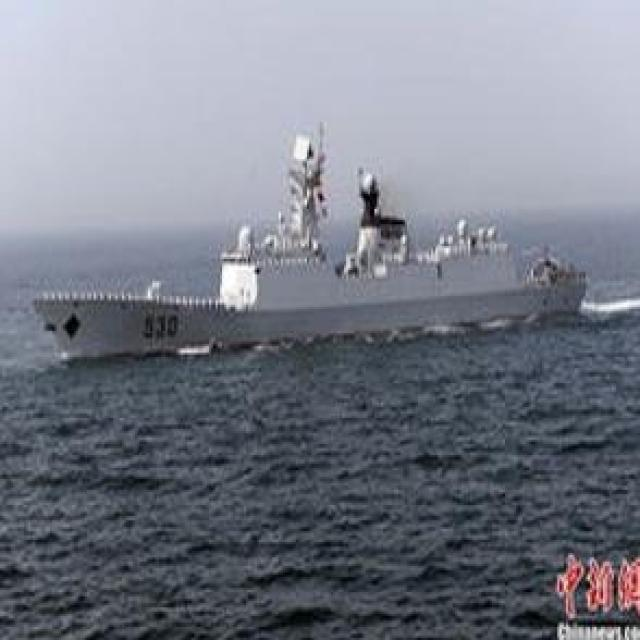navalvessels: (23, 113, 605, 355)
